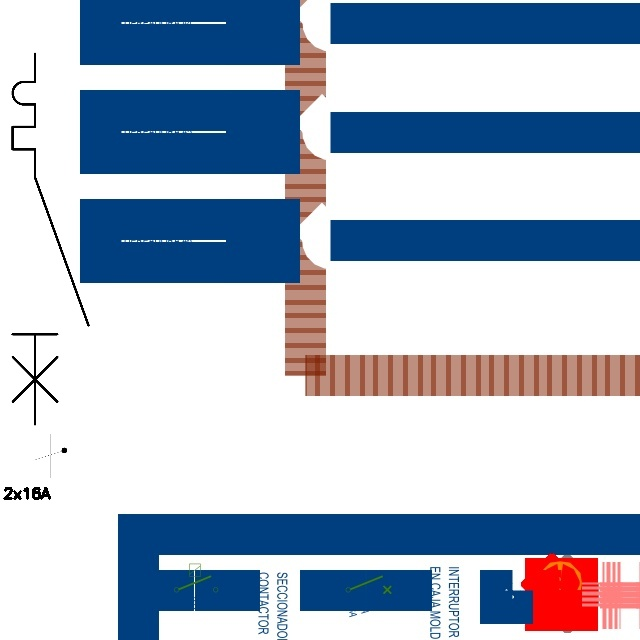interruptor_termomagnetico: (3, 44, 98, 434)
